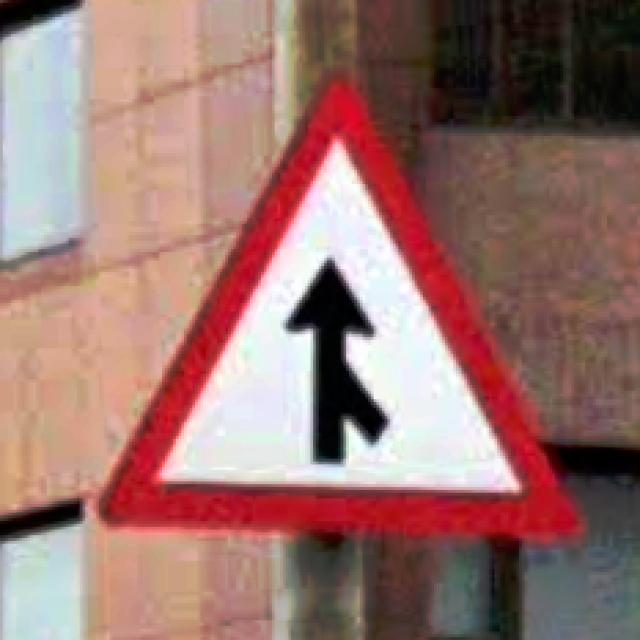rightmerge: (93, 66, 585, 550)
